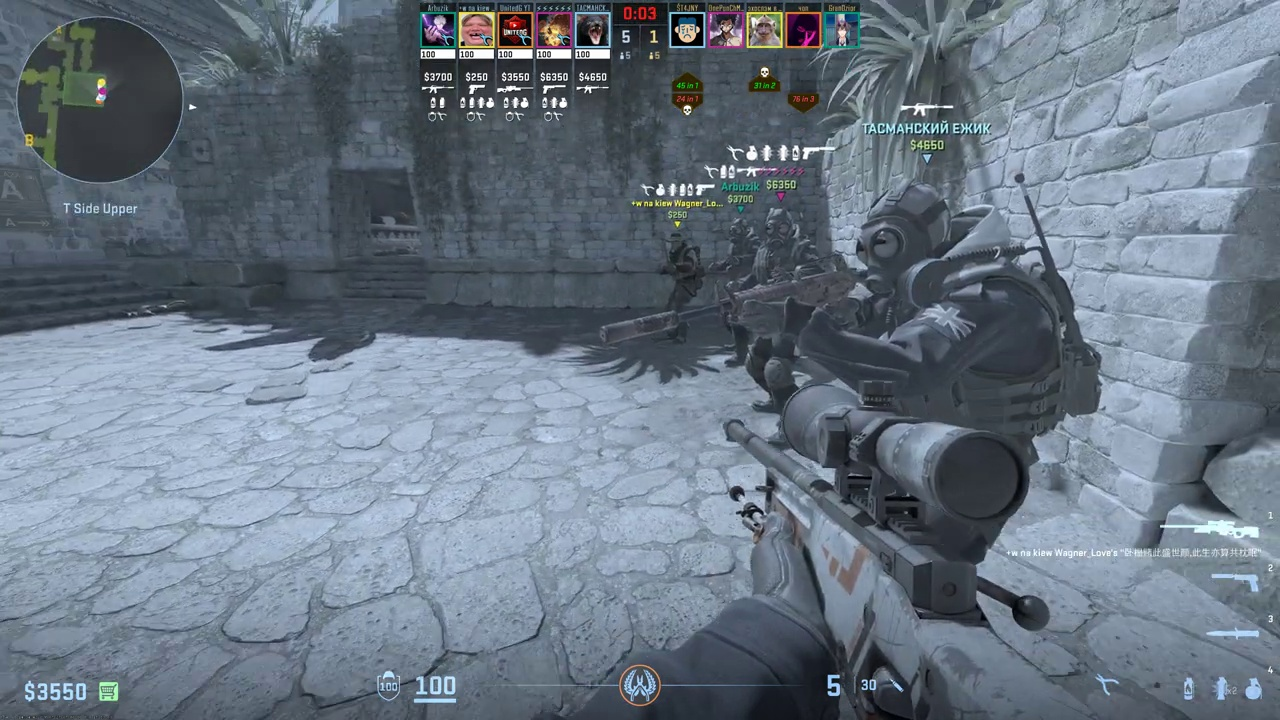CT: (849, 177, 1069, 522), (753, 209, 818, 417), (719, 218, 755, 365), (660, 232, 704, 345)
